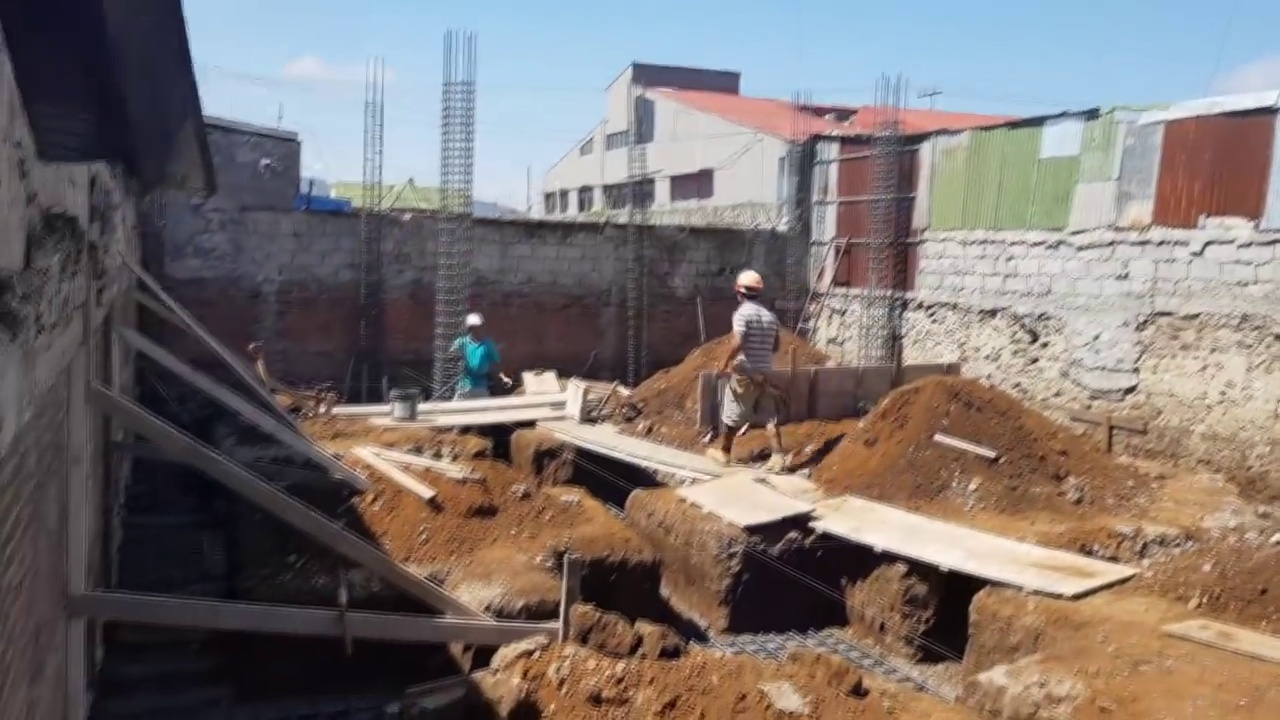helmet: (730, 269, 764, 291), (463, 313, 486, 328)
helmet-on: (732, 271, 764, 306), (461, 310, 486, 336)
person: (716, 267, 786, 480), (446, 310, 511, 403)
